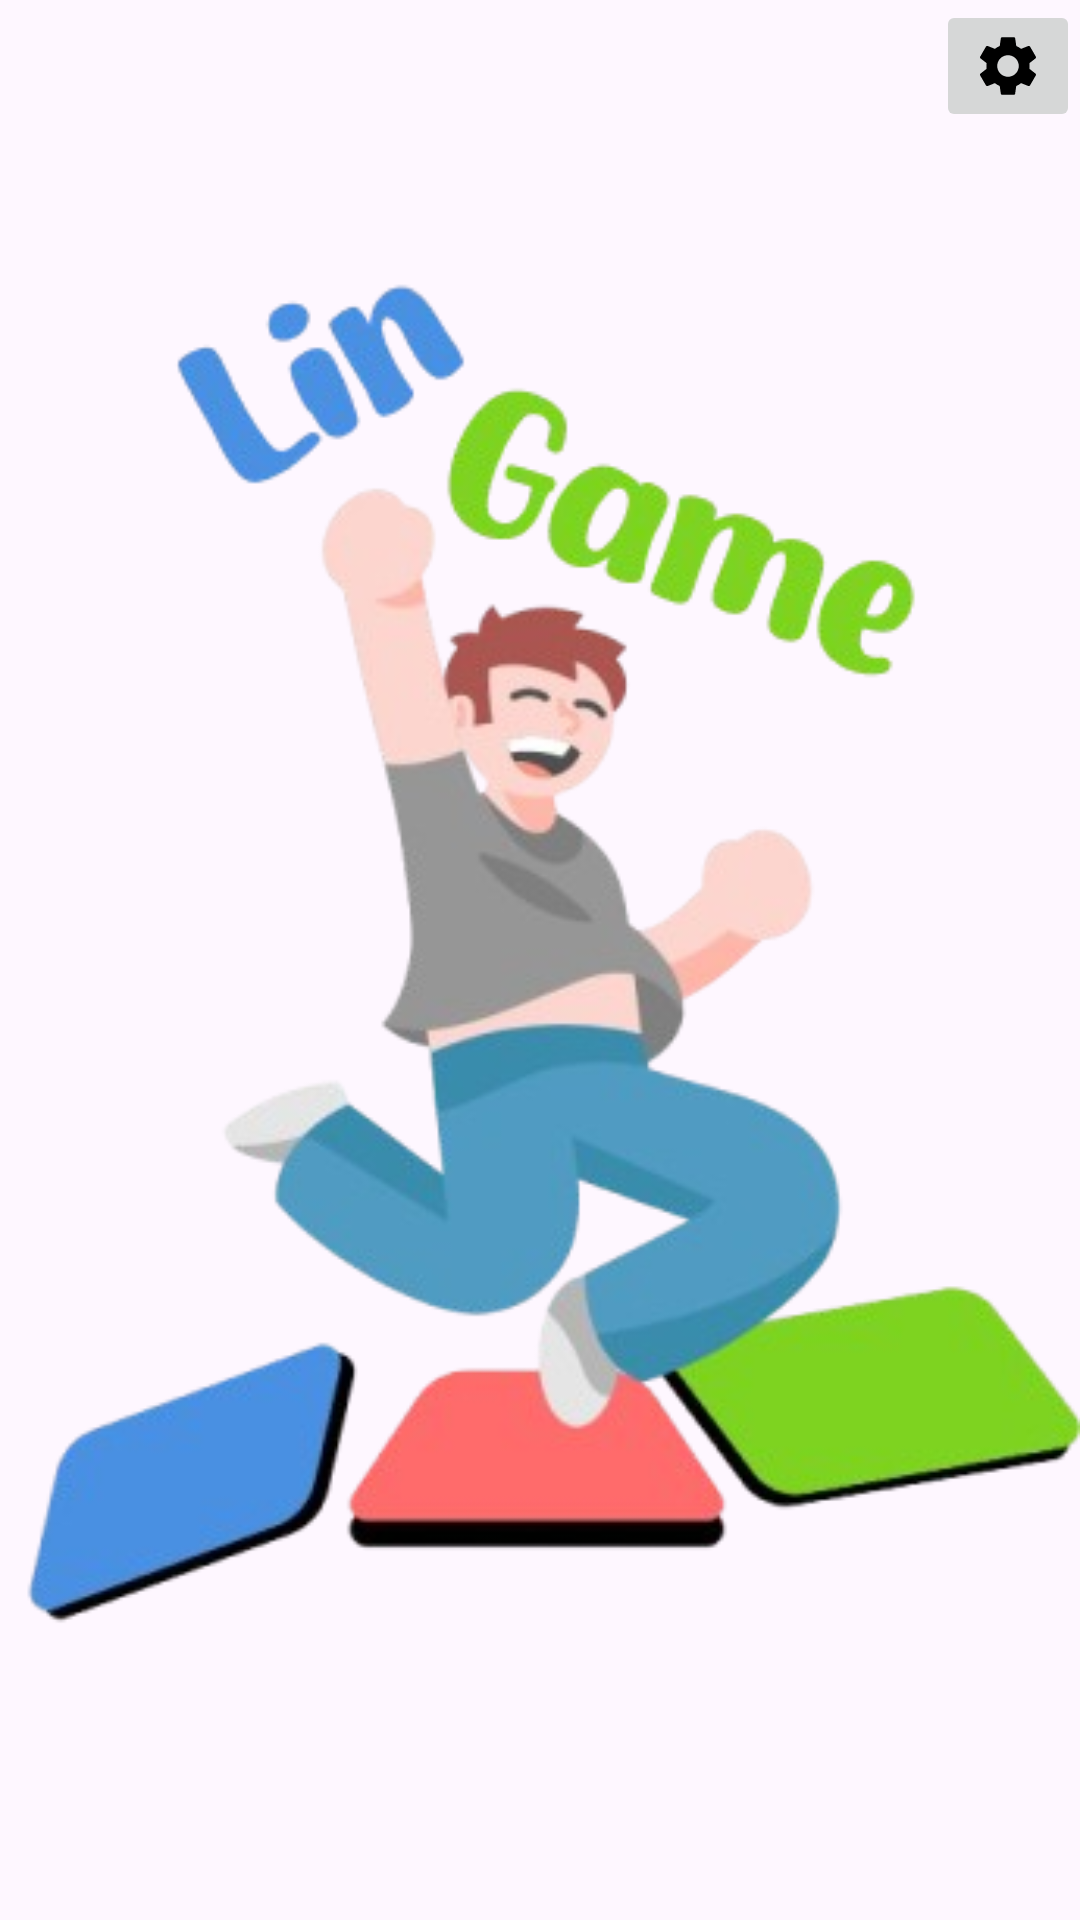

Point at icon controls on the screen. Image size 1080px×1920px, points as (x=x, y=y).
settings: (x=1008, y=66)
